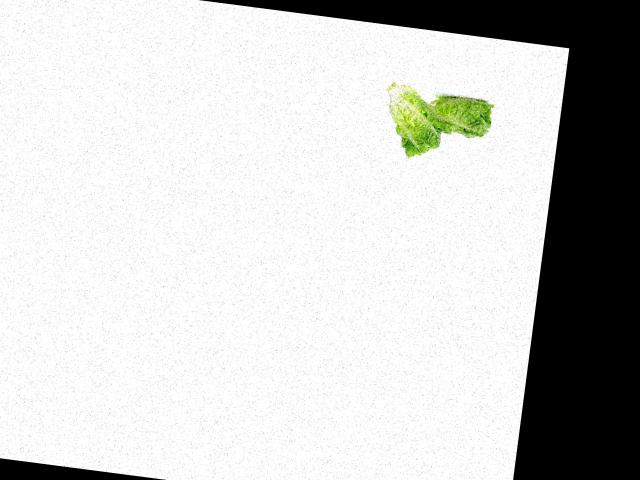lettuce: (376, 76, 455, 159)
